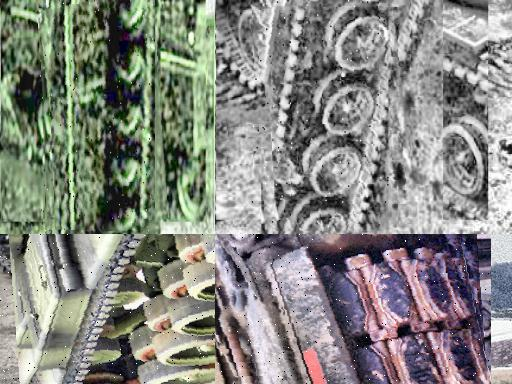tanks: (216, 235, 488, 384), (252, 1, 389, 234), (4, 235, 216, 384), (39, 1, 156, 232)
